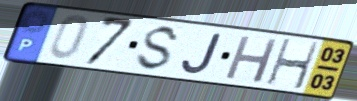0: (46, 14, 91, 62)
7: (81, 14, 138, 68)
H: (264, 38, 322, 92), (222, 34, 282, 85)
J: (179, 31, 224, 76)
S: (133, 24, 183, 73)
